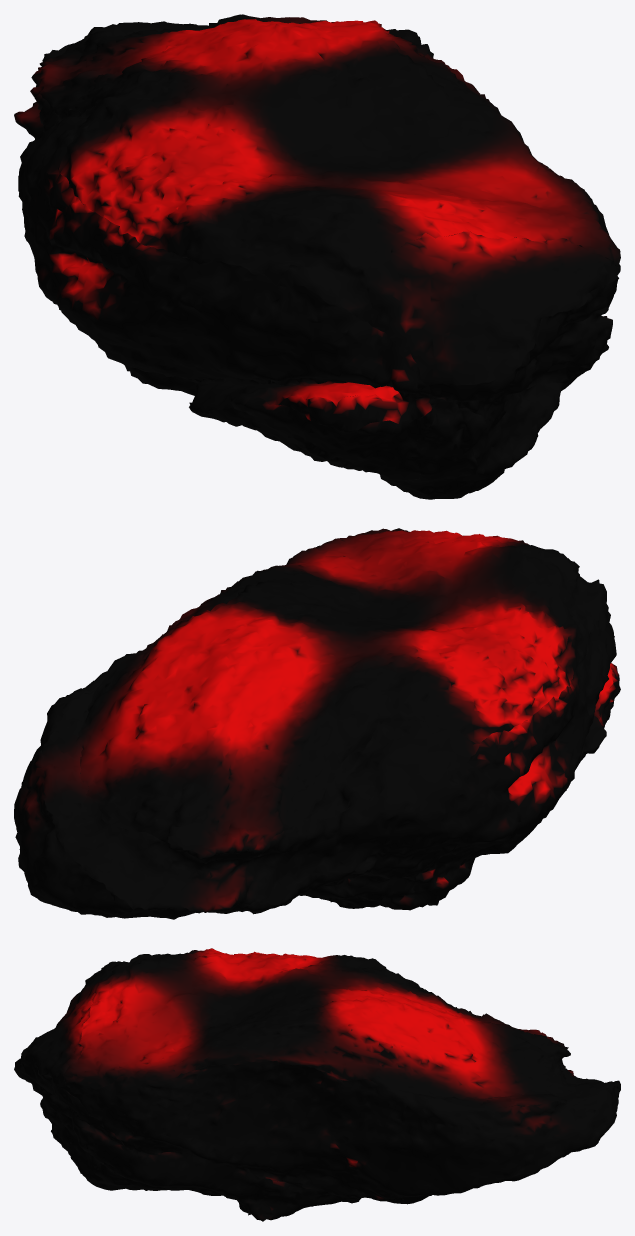
File: SM_BoulderMossy_01.fbx
The picture shows the model from 3 angles, top to bottom: view 1: azimuth 30°, elevation 25°; view 2: azimuth 150°, elevation 25°; view 3: azimuth 270°, elevation 25°; orthographic projection. The views are drawn at different scales.
Visible parts, largest first — view 1: SM_BoulderMossy_01; view 2: SM_BoulderMossy_01; view 3: SM_BoulderMossy_01.
Part boxes in pixels (box(x1,y1,x2,y2)): SM_BoulderMossy_01: box(14, 14, 620, 499); SM_BoulderMossy_01: box(14, 528, 620, 919); SM_BoulderMossy_01: box(14, 948, 620, 1221).
Size of the model in its own units: 145 by 255 by 93.32.
